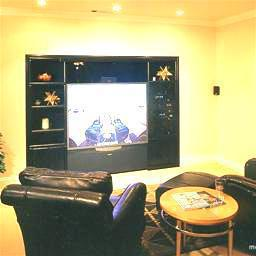Electrodomestico: (68, 82, 146, 171)
